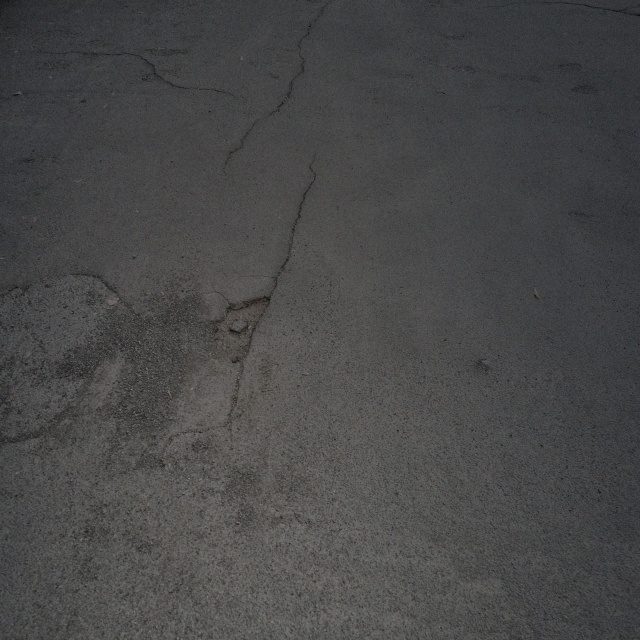pothole: (212, 284, 274, 366)
